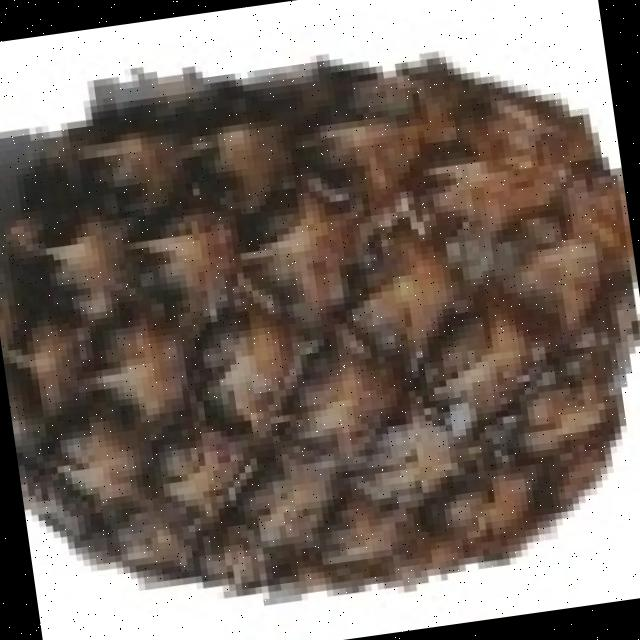pineapple: (0, 58, 640, 598)
